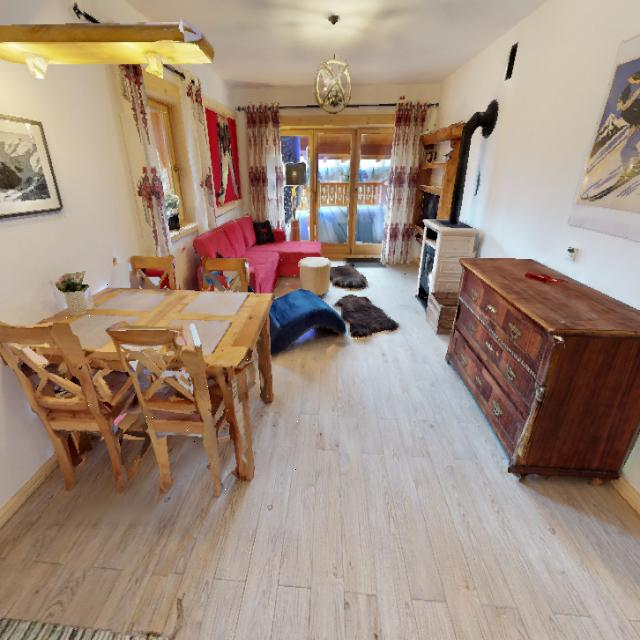chair: (0, 306, 148, 500), (111, 315, 237, 495)
sofa: (193, 206, 349, 296)
table: (35, 271, 301, 499)
